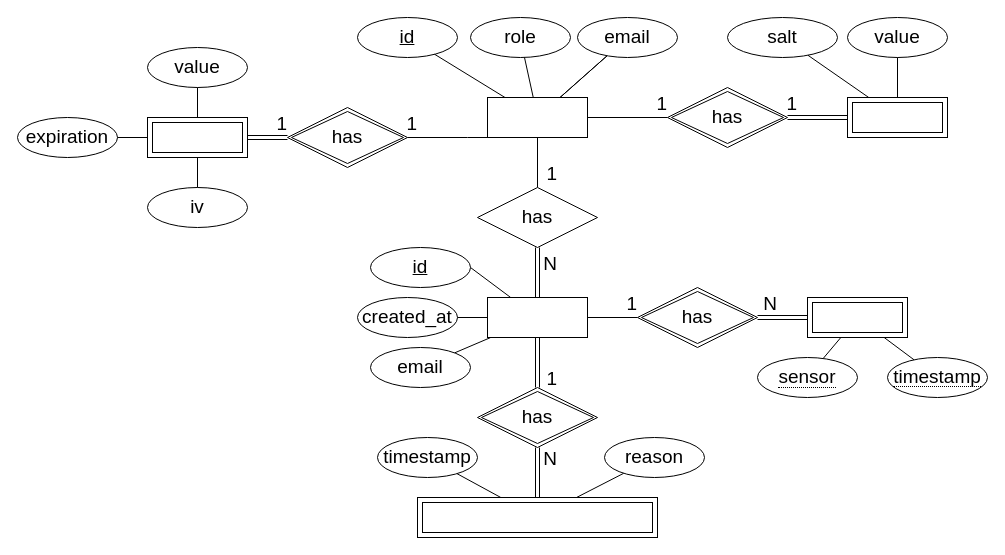
This 1005x555 diagram has some shape labels left out. Here are the shapes that lost their labels. From the top down, the centre of each, then its label:
At point 197,137: "TOKEN".
At point 537,117: "USER".
At point 897,117: "PASSWORD".
At point 537,317: "DEVICE".
At point 857,317: "SENSOR_ERROR".
At point 537,517: "DEVICE_WAKE_UP_LOG".
